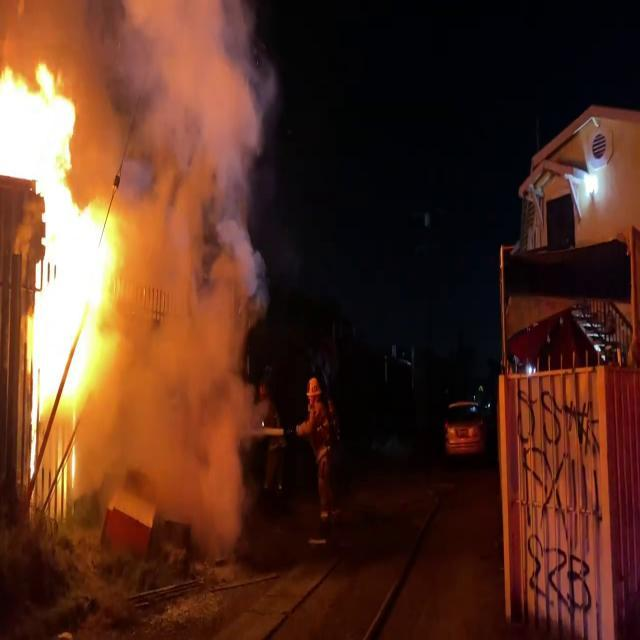Fire: (1, 52, 119, 494)
Smoke: (81, 1, 276, 527)
